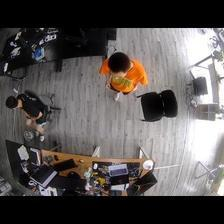normal: (98, 48, 146, 108), (6, 90, 55, 142)
